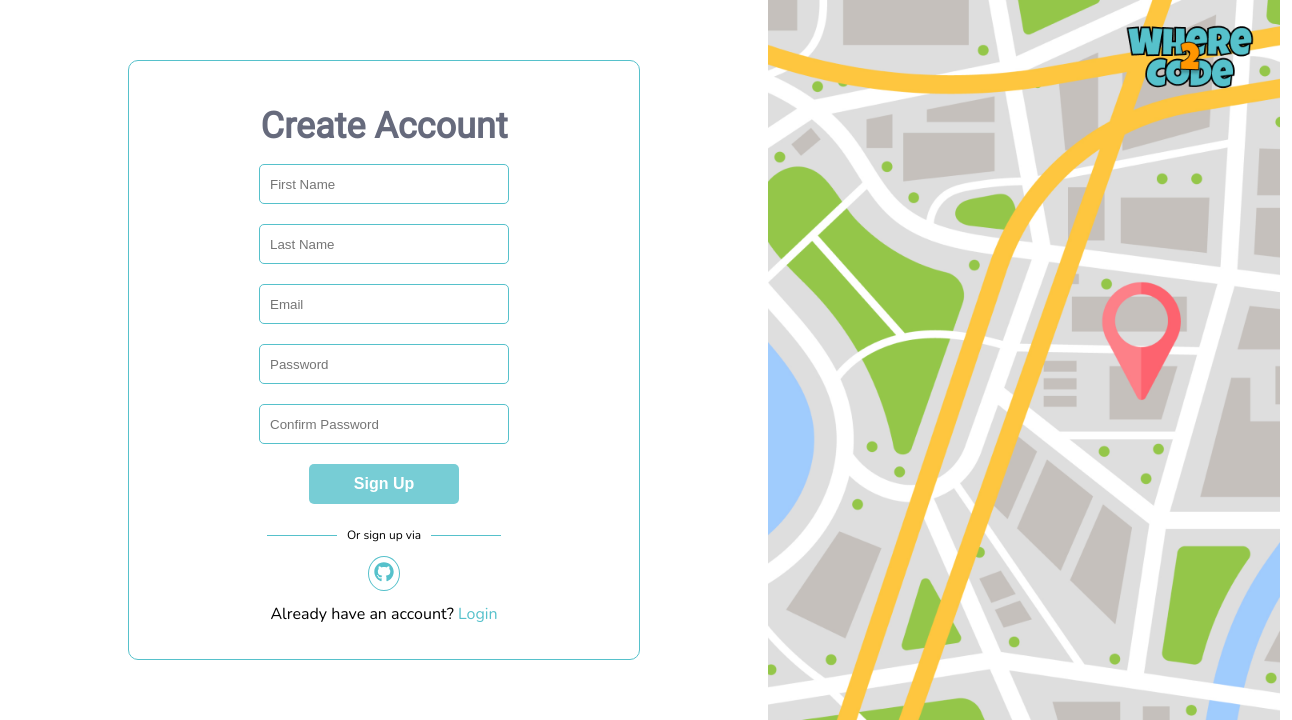
Test: Registartion tests › display an error message if validation don't pass › test email validation
Type "a@a" into the field with placeholder "Email" at {"x": 384, "y": 304}, box [259,284,509,324]
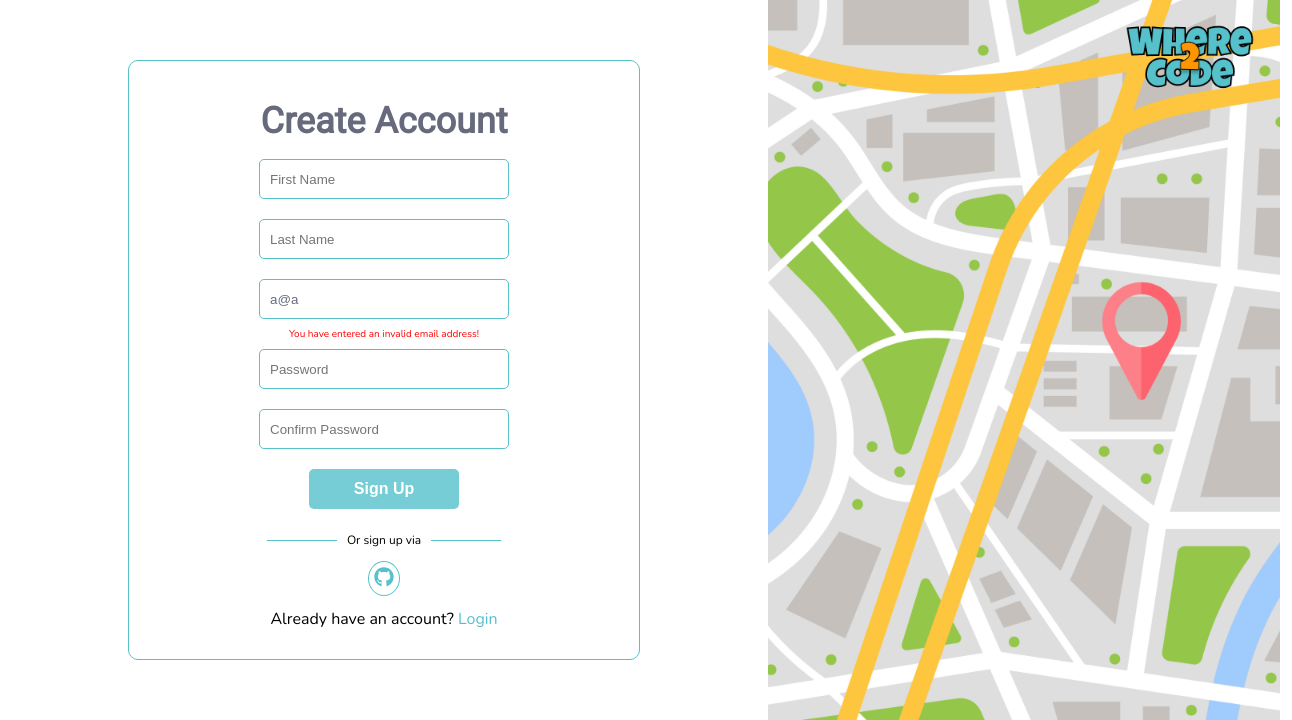
Expected: the text "You have entered an invalid email address!" is shown, [289,329,479,339]
